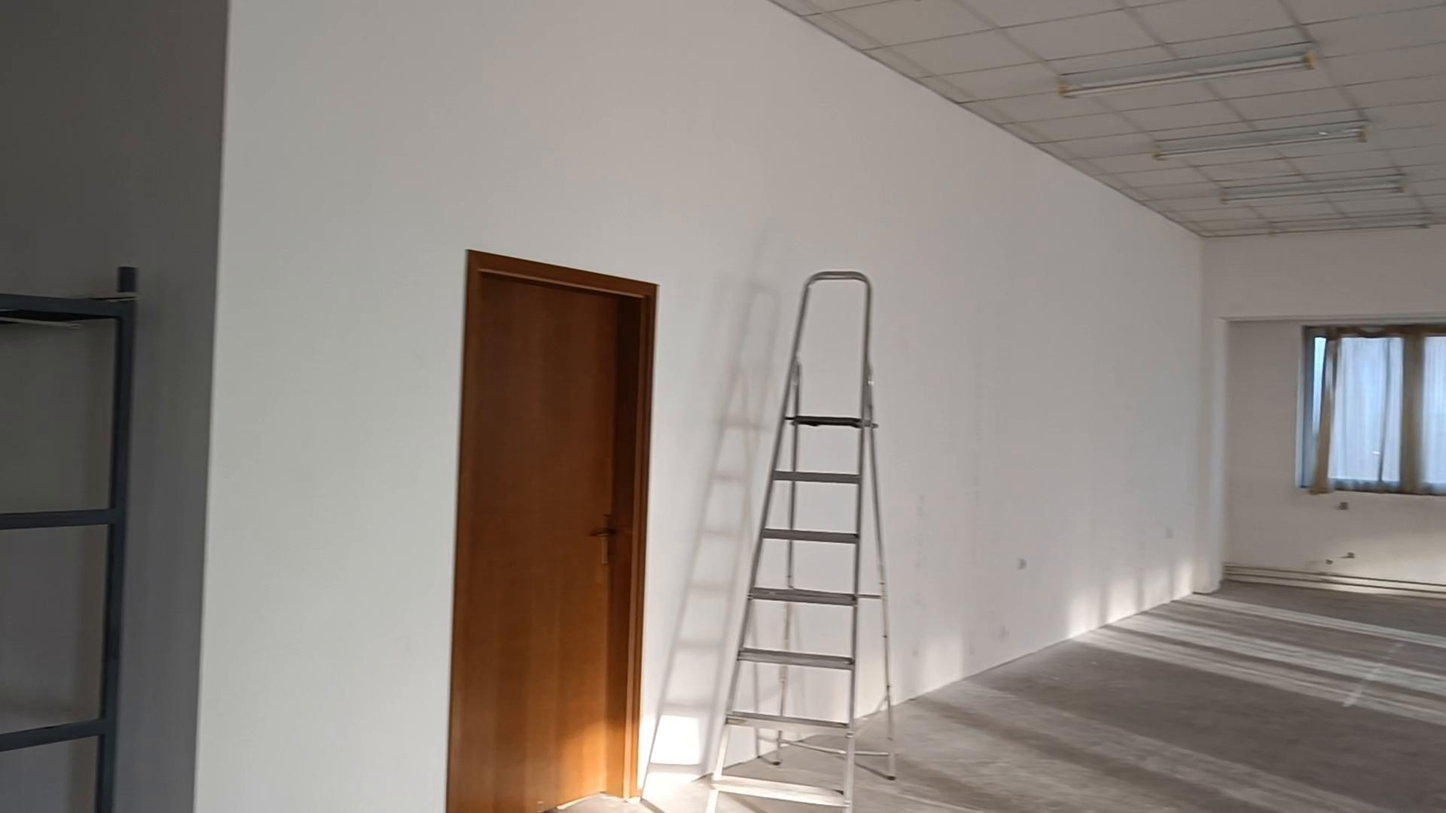ceiling: (773, 0, 1445, 236)
floor: (856, 583, 1445, 812)
wall: (0, 0, 1445, 812), (1226, 330, 1442, 582)
